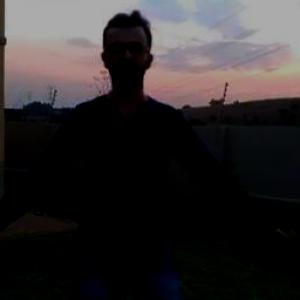land: (0, 19, 285, 299)
